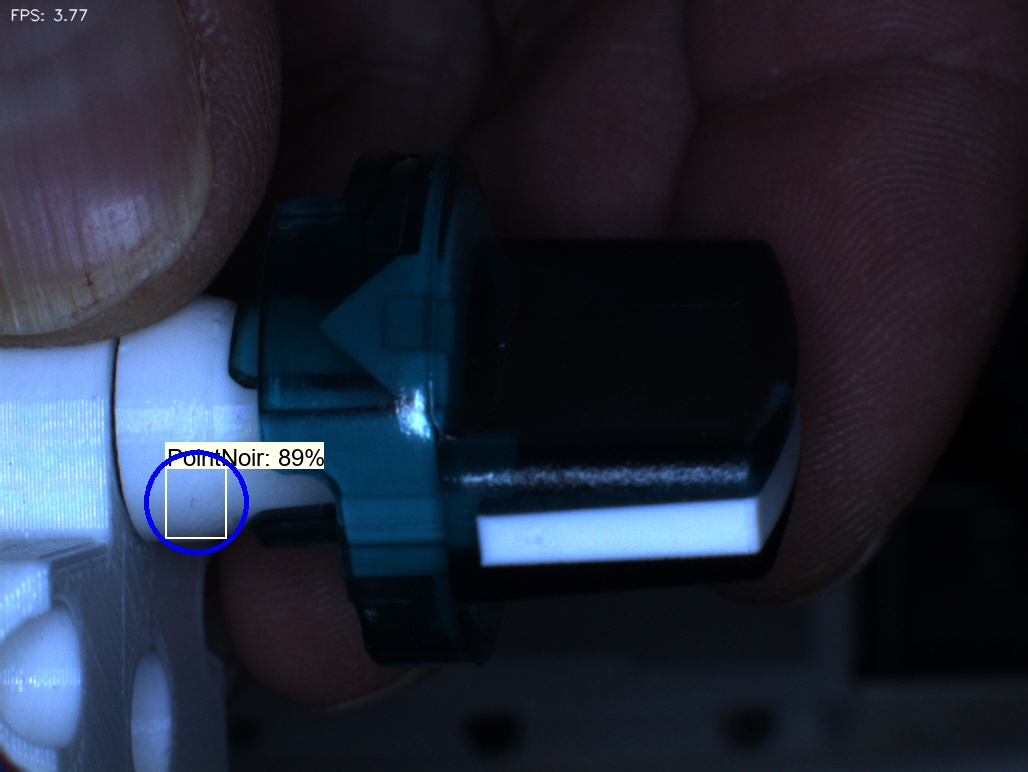DentOk: (293, 269, 375, 377)
